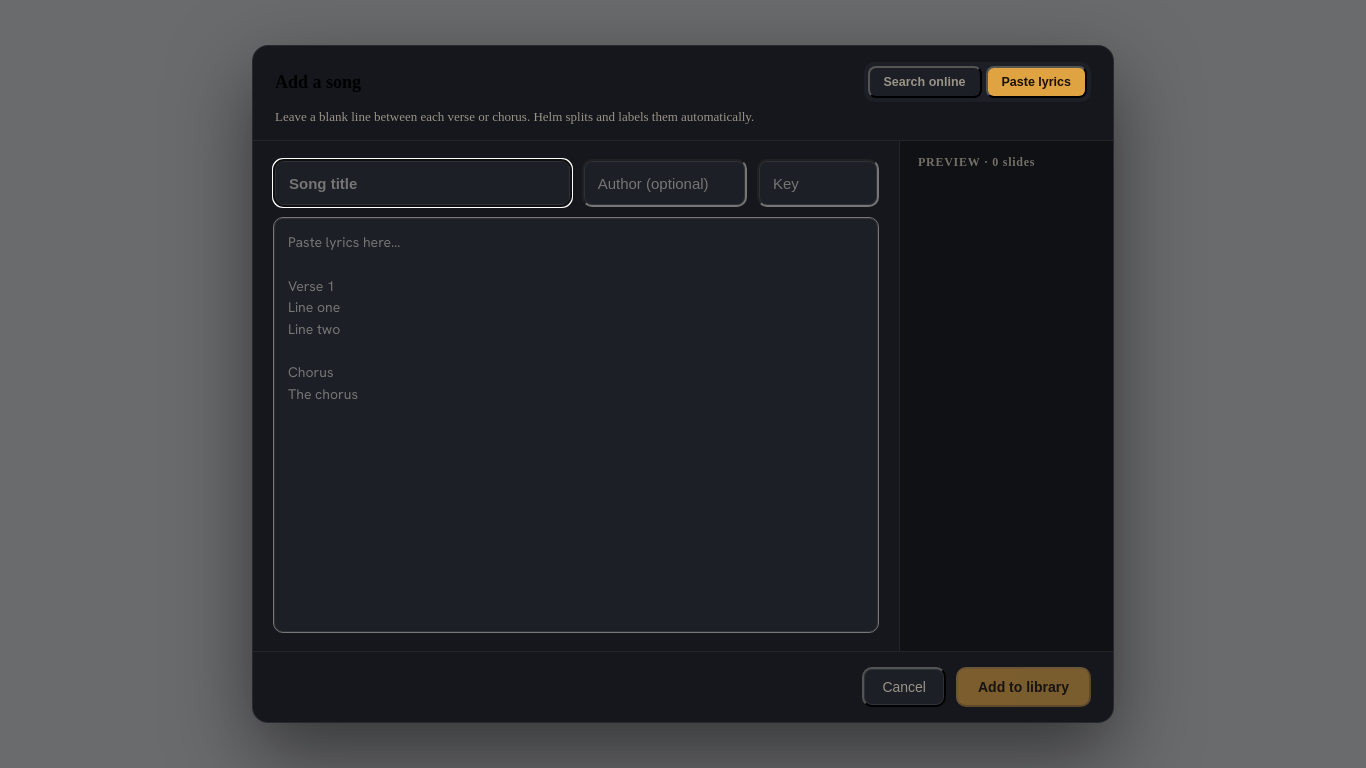
Test: QuickAdd Search online tab › shows the page-error copy when a URL yields no lyrics
Click the button "Search online": [924, 82] box [868,66,982,98]
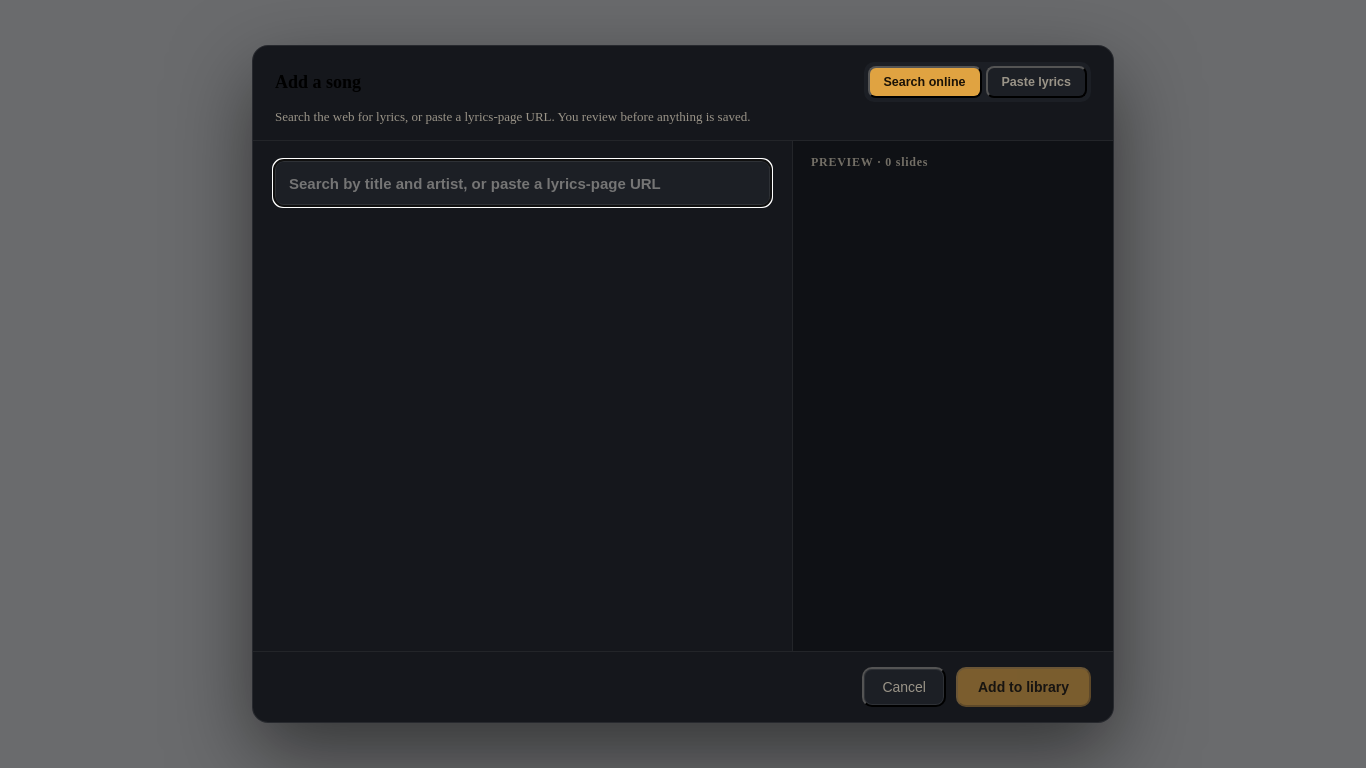
In the field with placeholder "Search by title and artist, or paste a lyrics-page URL": [522, 183] box [273,159,772,207], type "https://somesite.com/x"
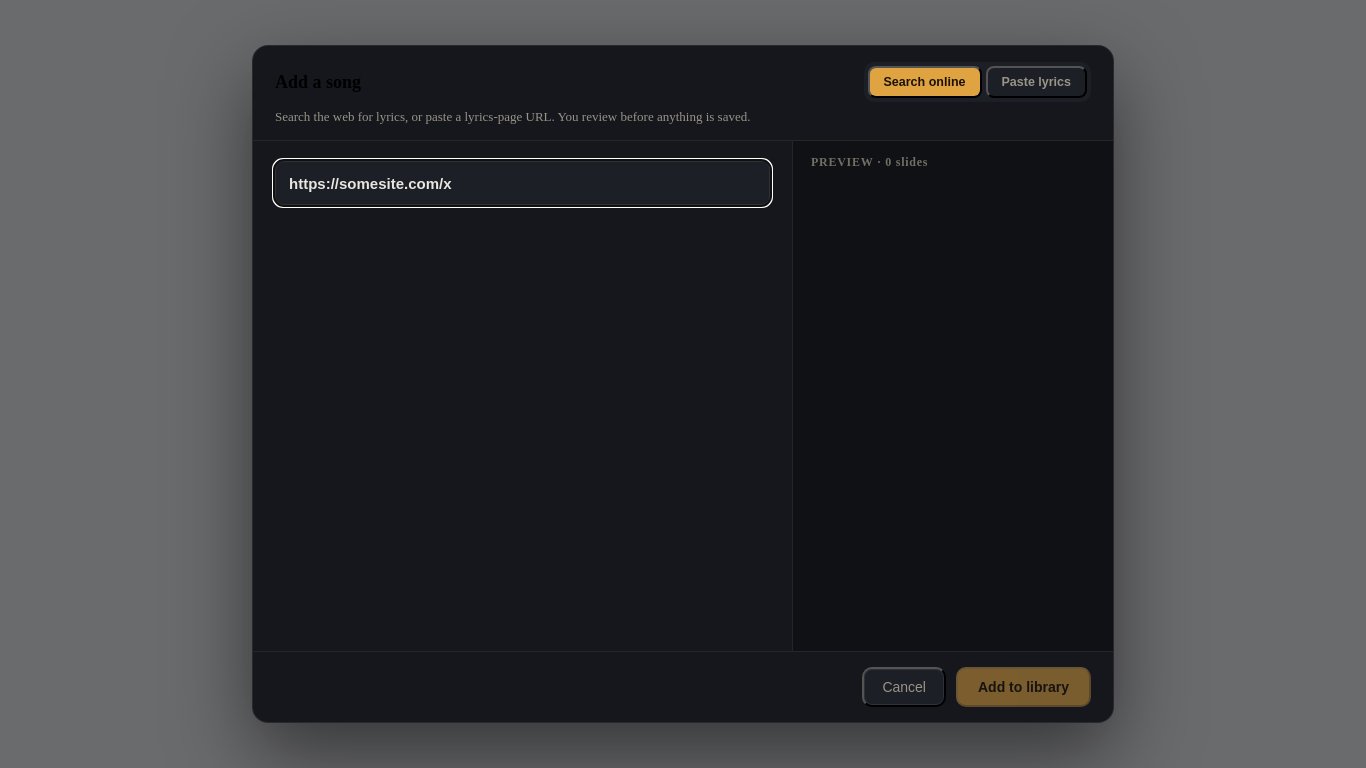
Press Enter in the field with placeholder "Search by title and artist, or paste a lyrics-page URL", box [273,159,772,207]
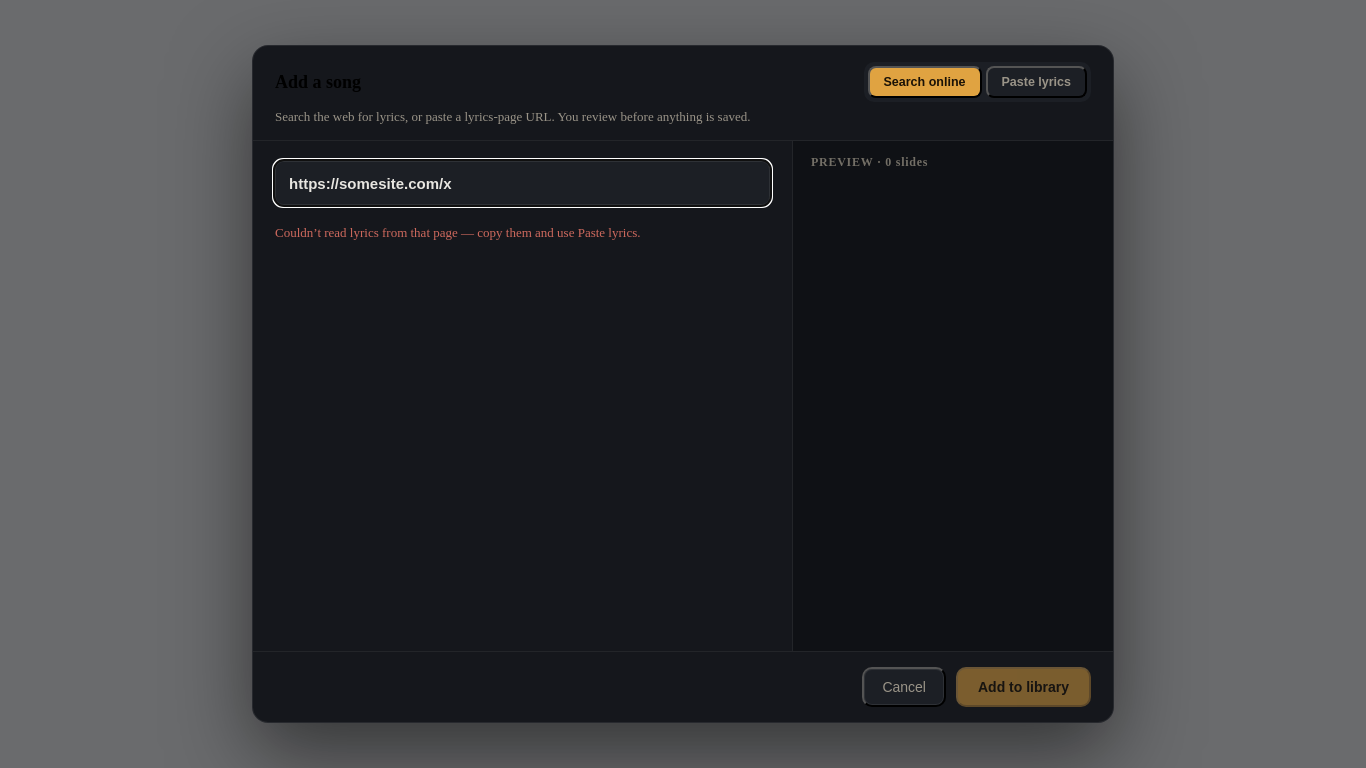
Check: the text "Couldn’t read lyrics from that page — copy them and use Paste lyrics." is shown, box [275,225,640,240]
